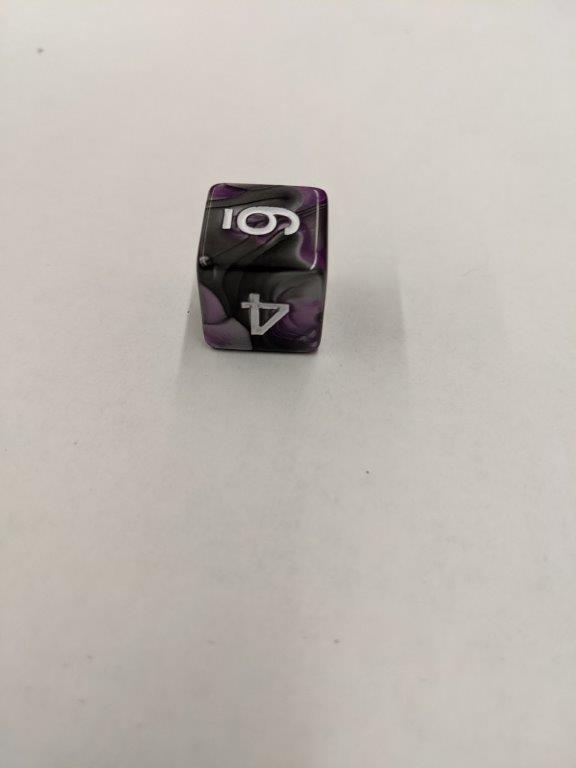d6-6: (197, 180, 331, 364)
